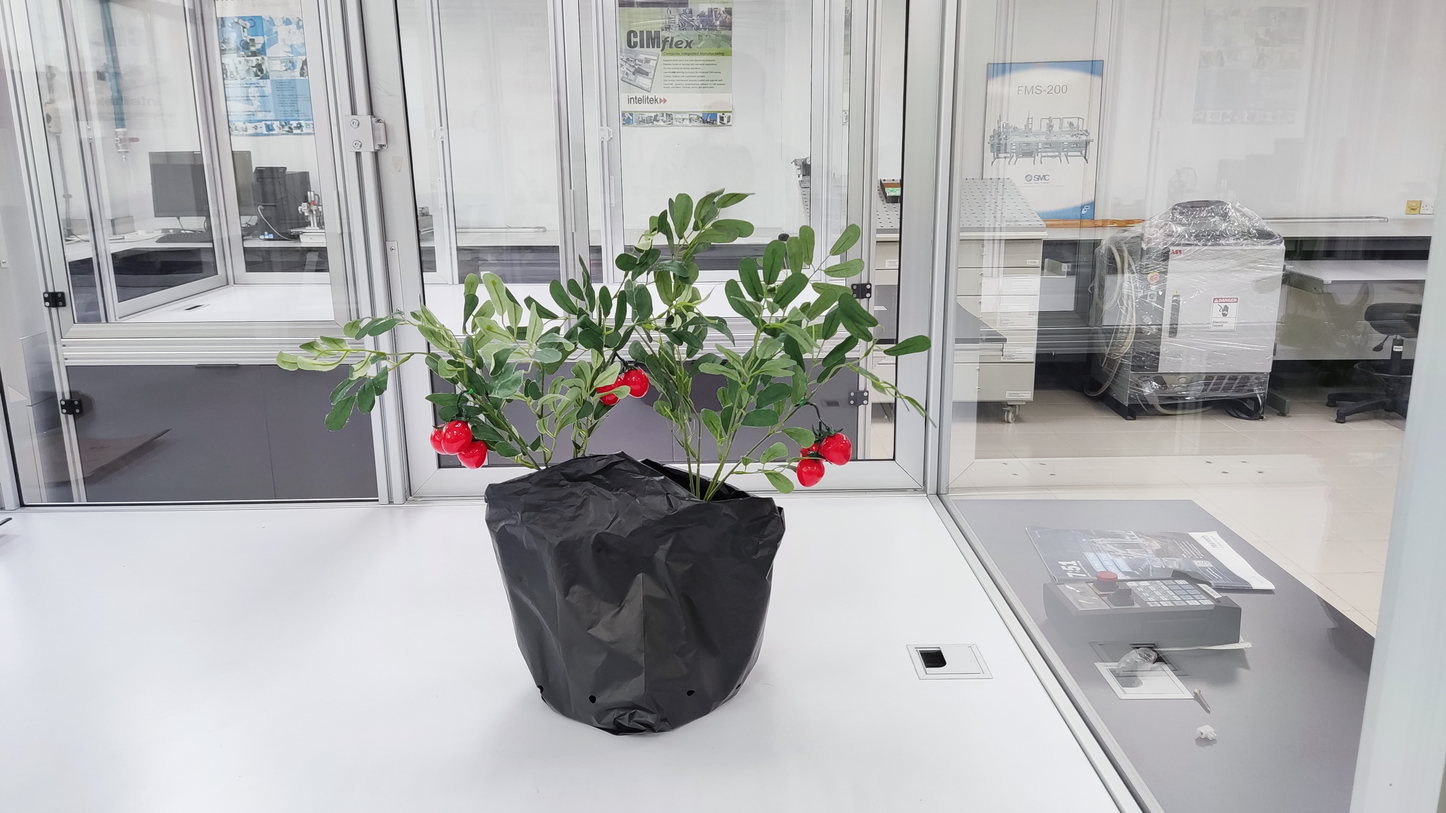peduncle: (457, 390, 465, 403), (814, 405, 821, 418)
strawberry: (818, 431, 852, 465), (440, 419, 472, 454), (796, 456, 826, 486), (619, 367, 649, 396), (456, 440, 487, 468), (595, 376, 623, 406), (429, 426, 450, 455), (801, 444, 817, 456)
